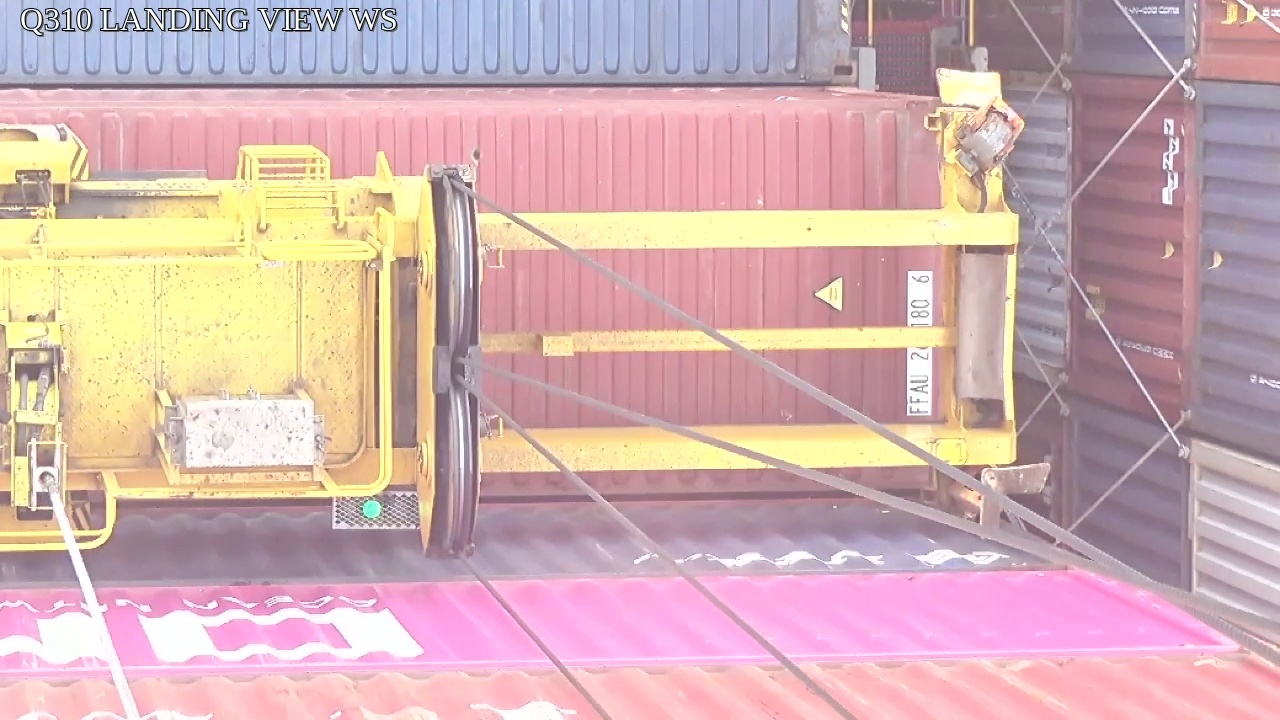right: (409, 164, 482, 561)
